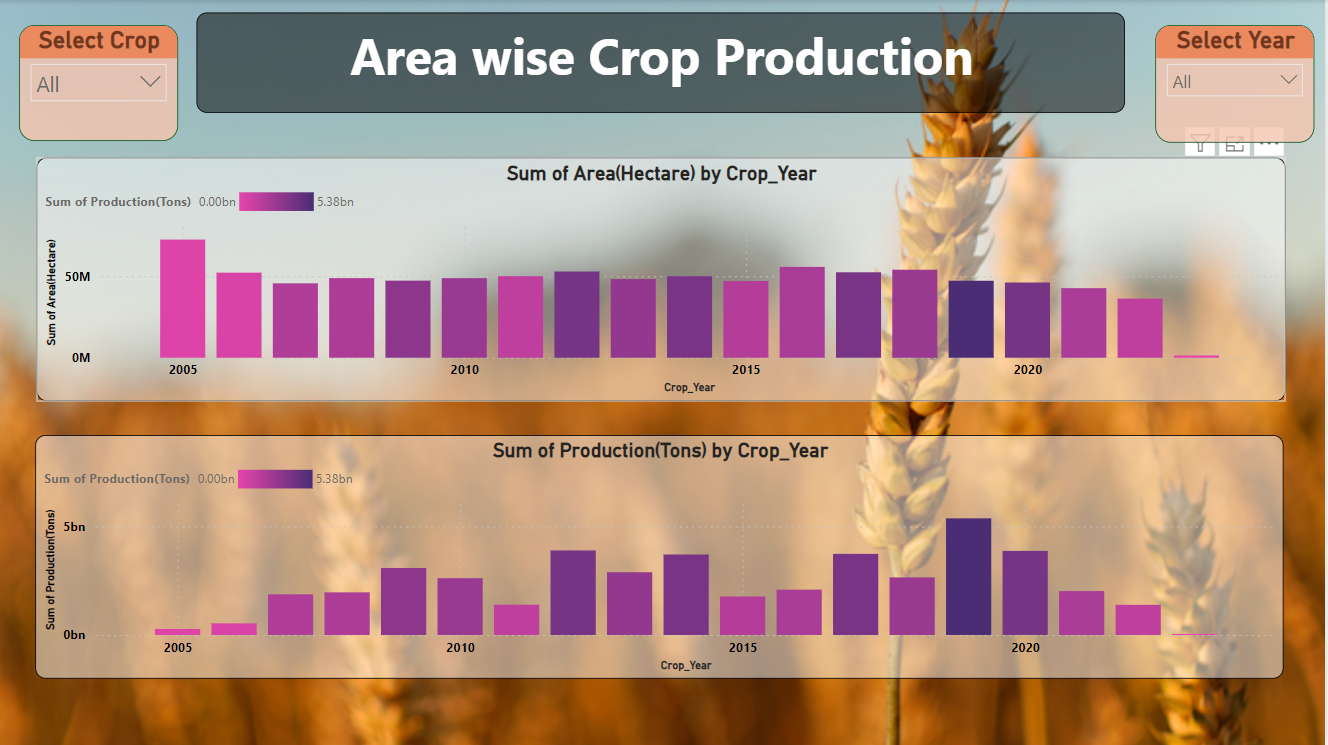

The dashboard page shown, as its layout file describes it:
{"tool":"powerbi","page":{"name":"Area wise crop Production","canvas":[1280,720],"ordinal":4},"visuals":[{"type":"textbox","box":[190.6,12.1,896.4,96.5],"z":0},{"type":"columnChart","fields":{"Category":["apy_1.Crop_Year"],"Y":["Sum(apy_1.Area(Hectare))"]},"box":[36.2,152,1205.2,235.3],"z":1000},{"type":"columnChart","fields":{"Category":["apy_1.Crop_Year"],"Y":["Sum(apy_1.Production(Tons))"]},"box":[35,419.5,1205,235],"z":2000},{"type":"slicer","title":"Select Crop","fields":{"Values":["apy_1.Crop"]},"box":[19.3,24.1,153.2,112.2],"z":3000},{"type":"slicer","title":"Select Year","fields":{"Values":["apy_1.Crop_Year"]},"box":[1116,24.1,153.2,113.4],"z":4000}]}

Visuals, with their boxes in screenshot pixels (x1, y1, x2, y2), scaled from the page's 1280x720 canvas onto the 1328x745 screenshot:
textbox: {"x1": 198, "y1": 13, "x2": 1128, "y2": 112}
columnChart - apy_1.Crop_Year x Sum(apy_1.Area(Hectare)): {"x1": 38, "y1": 157, "x2": 1288, "y2": 401}
columnChart - apy_1.Crop_Year x Sum(apy_1.Production(Tons)): {"x1": 36, "y1": 434, "x2": 1286, "y2": 677}
"Select Crop" slicer: {"x1": 20, "y1": 25, "x2": 179, "y2": 141}
"Select Year" slicer: {"x1": 1158, "y1": 25, "x2": 1317, "y2": 142}
